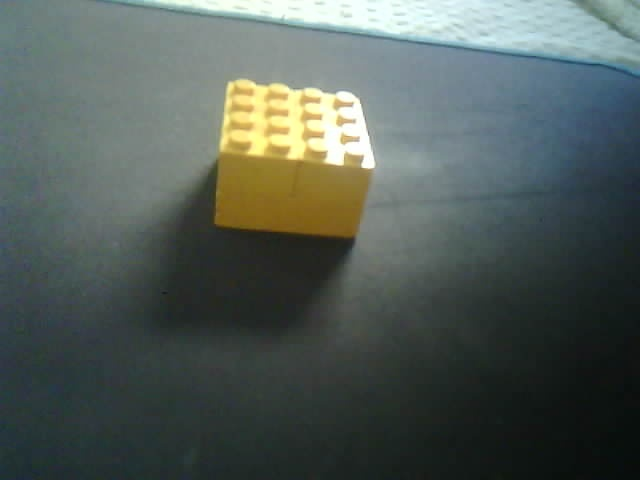lego: (213, 77, 376, 241)
